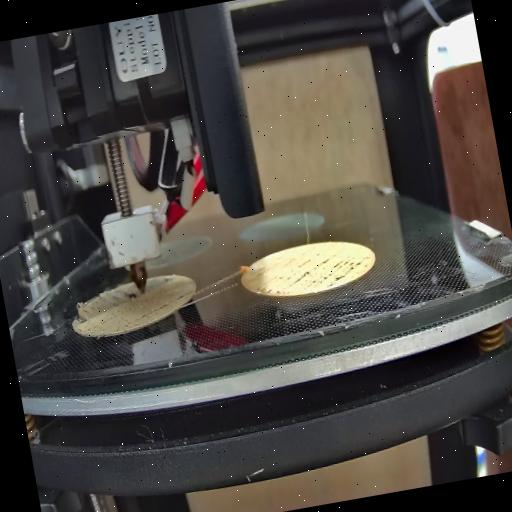under_extrusion: (258, 252, 374, 297), (66, 278, 140, 320), (154, 284, 198, 306)
